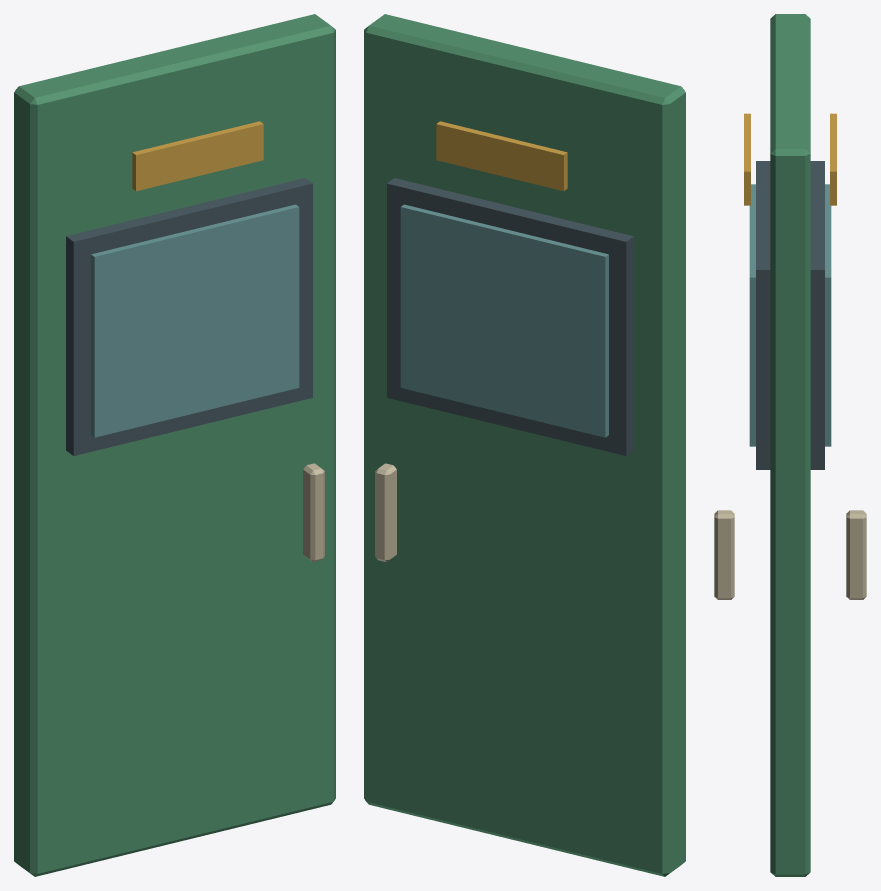
Rendered from door_station_ticket.glb.
3 views of the same model, side by side, from view 1: azimuth 30°, elevation 25°; view 2: azimuth 150°, elevation 25°; view 3: azimuth 270°, elevation 25° (orthographic). The views are drawn at different scales.
Visible parts, largest first — view 1: door_station_ticket; view 2: door_station_ticket; view 3: door_station_ticket.
Boxes of the visible parts, x1,y1,x2,y2 form: door_station_ticket: (14, 14, 335, 876); door_station_ticket: (364, 14, 685, 876); door_station_ticket: (714, 14, 866, 876).
Bounding box in the file's own units: 1.15 × 2.8 × 0.53.
